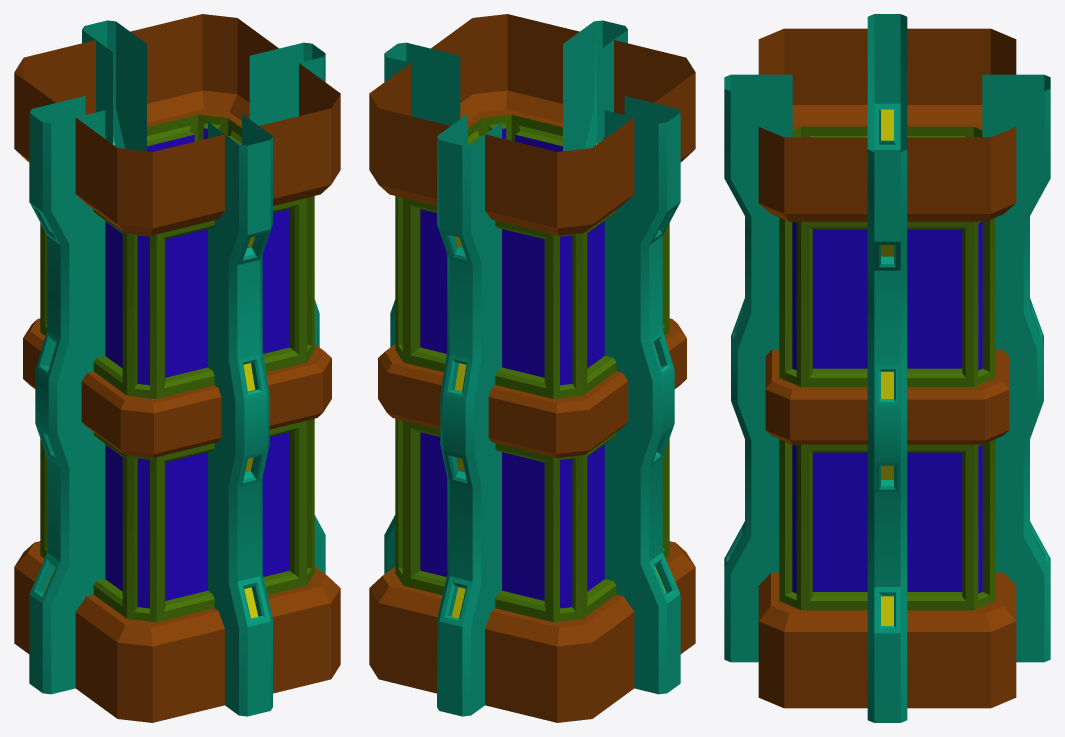
The model's file is OBJ_Bras_Platforme.fbx.
3 renders of one model, left to right at view 1: azimuth 30°, elevation 25°; view 2: azimuth 150°, elevation 25°; view 3: azimuth 270°, elevation 25°, orthographic.
Visible parts, largest first — view 1: OBJ_Bras_Platforme; view 2: OBJ_Bras_Platforme; view 3: OBJ_Bras_Platforme.
Boxes of the visible parts, box(x1,y1,x2,y2) form: OBJ_Bras_Platforme: box(14, 14, 340, 722); OBJ_Bras_Platforme: box(369, 14, 695, 722); OBJ_Bras_Platforme: box(724, 14, 1050, 722).
Bounding box in the file's own units: 9.28 × 17.9 × 9.28.
